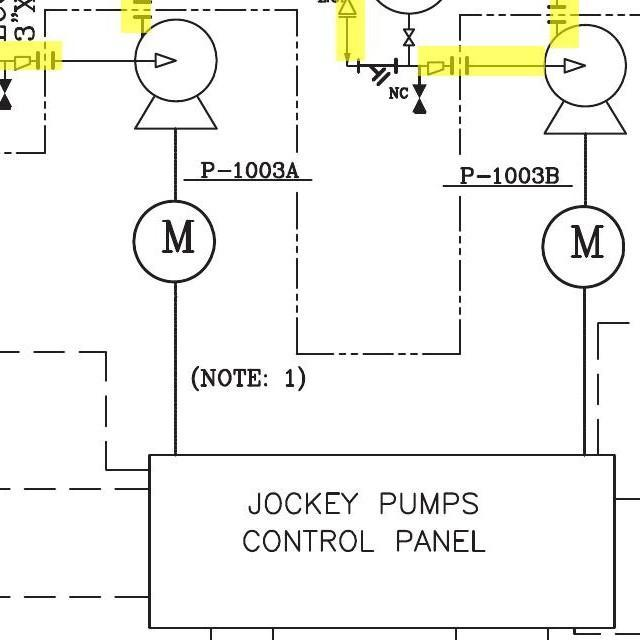GV: (402, 25, 417, 51)
M: (128, 197, 219, 287), (539, 205, 626, 290)
P: (542, 18, 632, 144), (132, 17, 225, 135)
SP: (10, 51, 34, 74), (422, 58, 444, 78)
